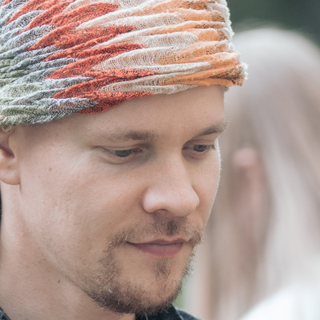eye: (91, 138, 146, 164), (180, 132, 221, 160)
